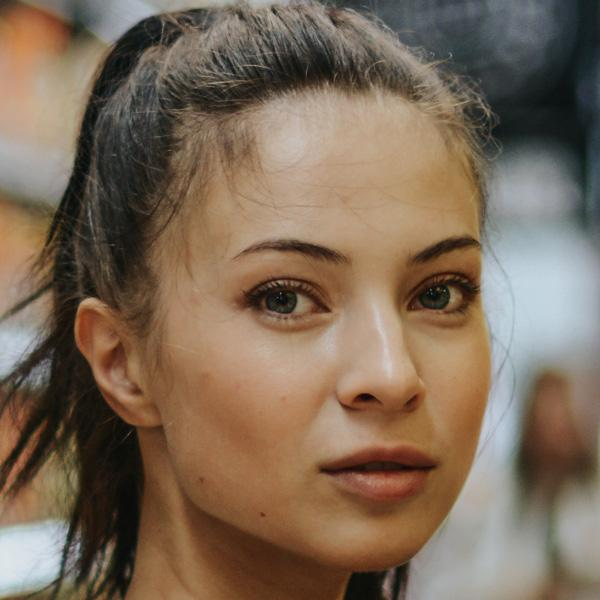Eyes: (237, 272, 338, 335), (399, 267, 482, 327)
